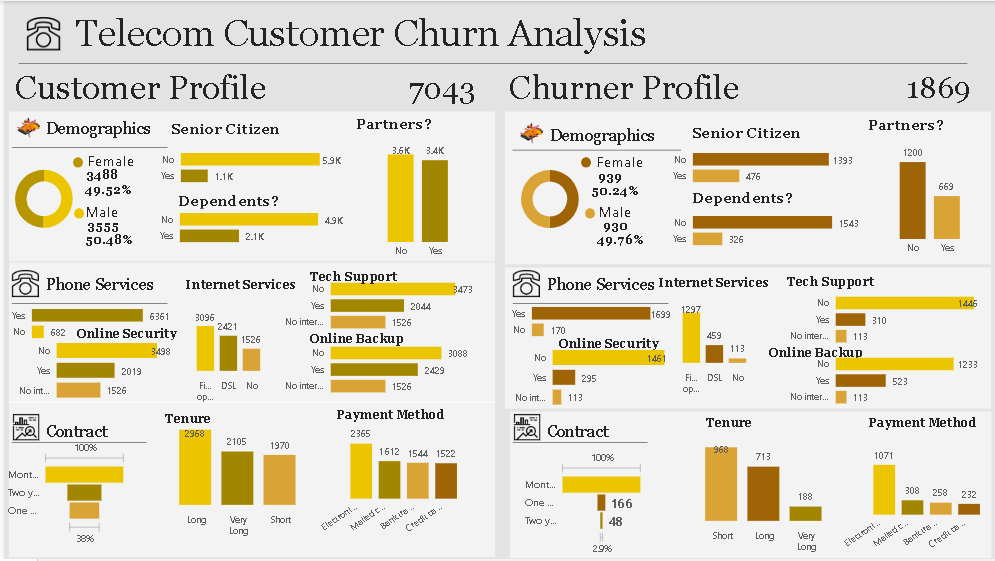

What the dashboard file says about the page in this screenshot:
{"tool":"powerbi","page":{"name":"Home Page","canvas":[1280,720],"ordinal":0},"visuals":[{"type":"textbox","box":[86.6,8.2,1193.4,67.4],"z":0},{"type":"textbox","box":[9.6,81.1,367.1,66],"z":1000},{"type":"textbox","box":[646.2,81.1,418,66],"z":2000},{"type":"basicShape","box":[9,61,1244.3,40.1],"z":3000},{"type":"image","box":[24.1,7.7,53.1,68.5],"z":4000},{"type":"basicShape","box":[646.2,527.5,633.8,192.5],"z":5000},{"type":"basicShape","box":[0,140.6,640,197.4],"z":6000},{"type":"basicShape","box":[0,335,640,185],"z":7000},{"type":"basicShape","box":[0,515,640,205],"z":8000},{"type":"basicShape","box":[640,140.6,640,201.3],"z":9000},{"type":"basicShape","box":[640,341.9,640,185.8],"z":10000},{"type":"group","id":"g1","title":"Group 1","box":[0,132.9,220.6,76.1],"z":11000},{"type":"group","id":"g2","title":"Group 1","box":[646.5,144.5,237.4,64.5],"z":12000},{"type":"basicShape","box":[0,169,220.6,40],"z":13000,"group":"g1"},{"type":"basicShape","box":[646.5,175.1,237.4,33.9],"z":13000,"group":"g2"},{"type":"group","id":"g3","title":"Group 2","box":[0,338.1,220.6,72.3],"z":13000},{"type":"basicShape","box":[0,370.4,220.6,40],"z":13000,"group":"g3"},{"type":"basicShape","box":[646.5,370.4,220.6,40],"z":13000,"group":"g4"},{"type":"basicShape","box":[0,549.6,193.5,40],"z":13000,"group":"g5"},{"type":"basicShape","box":[646.5,549.6,193.5,40],"z":13000,"group":"g6"},{"type":"textbox","box":[49,147.1,157.4,43.9],"z":14000,"group":"g1"},{"type":"textbox","box":[699.3,156.5,169.4,37.2],"z":14000,"group":"g2"},{"type":"group","id":"g4","title":"Group 2","box":[646.5,338.1,220.6,72.3],"z":14000},{"type":"textbox","box":[49,348.4,157.4,43.9],"z":14000,"group":"g3"},{"type":"textbox","box":[695.5,348.4,157.4,43.9],"z":14000,"group":"g4"},{"type":"textbox","box":[49,538,157.4,46.5],"z":14000,"group":"g5"},{"type":"textbox","box":[695.5,538,157.4,46.5],"z":14000,"group":"g6"},{"type":"image","box":[5.2,338.1,45.2,52.9],"z":15000,"group":"g3"},{"type":"image","box":[651.7,338.1,45.2,52.9],"z":15000,"group":"g4"},{"type":"group","id":"g5","title":"Group 3","box":[0,514.8,206.5,74.8],"z":15000},{"type":"image","box":[6.5,514.8,43.9,69.7],"z":15000,"group":"g5"},{"type":"image","box":[653,514.8,43.9,69.7],"z":15000,"group":"g6"},{"type":"group","id":"g6","title":"Group 3","box":[646.5,514.8,206.5,74.8],"z":16000},{"type":"card","fields":{"Values":["All Measures.Total No of Customers"]},"box":[498.9,80.8,131.8,59.5],"z":17000},{"type":"card","fields":{"Values":["All Measures.Total Churned Customers"]},"box":[1148,79.4,116.2,59.5],"z":18000},{"type":"donutChart","fields":{"Category":["01 Churn-Dataset.gender"],"Y":["CountNonNull(01 Churn-Dataset.gender)"]},"box":[0,174.3,103.5,161.6],"z":19000},{"type":"card","fields":{"Values":["All Measures.Female Customers"]},"box":[89.3,208.3,75.1,36.9],"z":20000},{"type":"image","box":[0,132.9,67.1,58.1],"z":21000,"group":"g1"},{"type":"image","box":[646.5,144.5,72.2,49.2],"z":21000,"group":"g2"},{"type":"textbox","box":[103.5,188.5,93.5,38.3],"z":21000},{"type":"textbox","box":[100.6,253.7,93.5,38.3],"z":22000},{"type":"card","fields":{"Values":["All Measures.Male Customers"]},"box":[90.7,273.5,75.1,36.9],"z":23000},{"type":"shape","box":[90.7,266.5,12.8,14.2],"z":24000},{"type":"shape","box":[89.3,201.3,12.8,14.2],"z":25000},{"type":"card","fields":{"Values":["All Measures.% Female Cus"]},"box":[96.4,226.8,75.1,36.9],"z":26000},{"type":"card","fields":{"Values":["All Measures.% Male Cus"]},"box":[97.8,292,75.1,36.9],"z":27000},{"type":"clusteredBarChart","fields":{"Category":["01 Churn-Dataset.SeniorCitizen"],"Y":["CountNonNull(01 Churn-Dataset.SeniorCitizen)"]},"box":[192.8,164.4,249.4,95],"z":28000},{"type":"clusteredBarChart","fields":{"Category":["01 Churn-Dataset.Dependents"],"Y":["CountNonNull(01 Churn-Dataset.Dependents)"]},"box":[191.3,240.9,259.4,95],"z":29000},{"type":"textbox","box":[211.2,147.4,168.7,32.6],"z":30000},{"type":"textbox","box":[221.1,239.5,168.7,32.6],"z":31000},{"type":"columnChart","fields":{"Category":["01 Churn-Dataset.Partner"],"Y":["CountNonNull(01 Churn-Dataset.Partner)"]},"box":[450.7,172.9,168.7,167.2],"z":32000},{"type":"textbox","box":[450.7,140.3,168.7,32.6],"z":33000},{"type":"donutChart","fields":{"Category":["01 Churn-Dataset.gender"],"Y":["All Measures.Total Churned Customers"]},"box":[653.4,184.3,103.5,141.7],"z":34000},{"type":"shape","box":[744.1,201.3,12.8,14.2],"z":35000},{"type":"textbox","box":[759.7,189.9,93.5,38.3],"z":36000},{"type":"card","fields":{"Values":["All Measures.% Female Churned"]},"box":[751.2,228.2,75.1,36.9],"z":37000},{"type":"card","fields":{"Values":["All Measures.Females Churned"]},"box":[744.1,209.8,75.1,36.9],"z":38000},{"type":"shape","box":[749.8,266.5,12.8,14.2],"z":39000},{"type":"textbox","box":[762.5,253.7,93.5,38.3],"z":40000},{"type":"card","fields":{"Values":["All Measures.Males Churned"]},"box":[751.2,273.5,75.1,36.9],"z":41000},{"type":"card","fields":{"Values":["All Measures.% Male Churned"]},"box":[756.9,292,75.1,36.9],"z":42000},{"type":"textbox","box":[884.4,151.7,165.8,39.7],"z":43000},{"type":"clusteredBarChart","fields":{"Category":["01 Churn-Dataset.SeniorCitizen"],"Y":["All Measures.Total Churned Customers"]},"box":[853.2,164.4,249.4,95],"z":44000},{"type":"clusteredBarChart","fields":{"Category":["01 Churn-Dataset.Dependents"],"Y":["All Measures.Total Churned Customers"]},"box":[853.2,245.2,259.4,95],"z":45000},{"type":"textbox","box":[884.4,236.7,165.8,39.7],"z":46000},{"type":"columnChart","fields":{"Category":["01 Churn-Dataset.Partner"],"Y":["All Measures.Total Churned Customers"]},"box":[1111.2,168.7,168.7,167.2],"z":47000},{"type":"textbox","box":[1111.2,141.7,168.7,32.6],"z":48000},{"type":"barChart","fields":{"Category":["01 Churn-Dataset.PhoneService"],"Y":["CountNonNull(01 Churn-Dataset.PhoneService)"]},"box":[0,365,221.2,95],"z":49000},{"type":"barChart","fields":{"Category":["01 Churn-Dataset.OnlineSecurity"],"Y":["CountNonNull(01 Churn-Dataset.OnlineSecurity)"]},"box":[0,417.5,221.2,110],"z":51000},{"type":"textbox","box":[88.8,413.8,155,27.5],"z":52000},{"type":"columnChart","fields":{"Category":["01 Churn-Dataset.InternetService"],"Y":["CountNonNull(01 Churn-Dataset.InternetService)"]},"box":[230,388.8,118.8,137.5],"z":53000},{"type":"textbox","box":[230,351.2,175,37.5],"z":54000},{"type":"barChart","fields":{"Category":["01 Churn-Dataset.TechSupport"],"Y":["CountNonNull(01 Churn-Dataset.TechSupport)"]},"box":[341.2,342.5,271.2,95],"z":54001},{"type":"textbox","box":[390,340,175,30],"z":54002},{"type":"barChart","fields":{"Category":["01 Churn-Dataset.OnlineBackup"],"Y":["CountNonNull(01 Churn-Dataset.OnlineBackup)"]},"box":[341.2,425,271.2,95],"z":54003},{"type":"textbox","box":[390,420,175,37.5],"z":54004},{"type":"barChart","fields":{"Category":["01 Churn-Dataset.PhoneService"],"Y":["All Measures.Total Churned Customers"]},"box":[645,362.5,221.2,95],"z":54005},{"type":"textbox","box":[711.2,427.5,155,27.5],"z":54006},{"type":"barChart","fields":{"Category":["01 Churn-Dataset.OnlineSecurity"],"Y":["All Measures.Total Churned Customers"]},"box":[640,427.5,221.2,110],"z":54007},{"type":"textbox","box":[840,348.8,175,37.5],"z":54008},{"type":"columnChart","fields":{"Category":["01 Churn-Dataset.InternetService"],"Y":["All Measures.Total Churned Customers"]},"box":[856.2,377.5,118.8,137.5],"z":54009},{"type":"textbox","box":[1005,347.5,175,30],"z":54010},{"type":"barChart","fields":{"Category":["01 Churn-Dataset.TechSupport"],"Y":["All Measures.Total Churned Customers"]},"box":[992.5,360,271.2,95],"z":54011},{"type":"textbox","box":[982.5,438.8,175,37.5],"z":54012},{"type":"barChart","fields":{"Category":["01 Churn-Dataset.OnlineBackup"],"Y":["All Measures.Total Churned Customers"]},"box":[992.5,438.8,271.2,95],"z":54013},{"type":"funnel","fields":{"Category":["01 Churn-Dataset.Contract"],"Y":["CountNonNull(01 Churn-Dataset.Contract)"]},"box":[0,561.2,163.8,146.2],"z":54014},{"type":"columnChart","fields":{"Category":["01 Churn-Dataset.Tenure Category"],"Y":["CountNonNull(01 Churn-Dataset.Tenure Category)"]},"box":[192.5,537.5,212.5,161.2],"z":54015},{"type":"textbox","box":[202.5,523.8,115,37.5],"z":54016},{"type":"columnChart","fields":{"Category":["01 Churn-Dataset.PaymentMethod"],"Y":["CountNonNull(01 Churn-Dataset.PaymentMethod)"]},"box":[392.5,537.5,212.5,161.2],"z":54017},{"type":"textbox","box":[425,518.8,167.5,37.5],"z":54018},{"type":"columnChart","fields":{"Category":["01 Churn-Dataset.PaymentMethod"],"Y":["All Measures.Total Churned Customers"]},"box":[1067.5,558.8,212.5,161.2],"z":54019},{"type":"textbox","box":[1111.2,528.8,167.5,37.5],"z":54020},{"type":"columnChart","fields":{"Category":["01 Churn-Dataset.Tenure Category"],"Y":["All Measures.Total Churned Customers"]},"box":[871.2,558.8,212.5,161.2],"z":54021},{"type":"textbox","box":[900,528.8,115,37.5],"z":54022},{"type":"funnel","fields":{"Category":["01 Churn-Dataset.Contract"],"Y":["All Measures.Total Churned Customers"]},"box":[667.5,573.8,163.8,146.2],"z":54023}]}

Visuals, with their boxes in screenshot pixels (x1, y1, x2, y2), scaled from the page's 1280x720 canvas onto the 995x561 screenshot:
textbox: [left=67, top=6, right=994, bottom=59]
textbox: [left=7, top=63, right=293, bottom=115]
textbox: [left=502, top=63, right=827, bottom=115]
basicShape: [left=7, top=48, right=974, bottom=79]
image: [left=19, top=6, right=60, bottom=59]
basicShape: [left=502, top=411, right=994, bottom=560]
basicShape: [left=0, top=110, right=498, bottom=263]
basicShape: [left=0, top=261, right=498, bottom=405]
basicShape: [left=0, top=401, right=498, bottom=560]
basicShape: [left=498, top=110, right=994, bottom=266]
basicShape: [left=498, top=266, right=994, bottom=411]
"Group 1" group: [left=0, top=104, right=171, bottom=163]
"Group 1" group: [left=503, top=113, right=687, bottom=163]
basicShape: [left=0, top=132, right=171, bottom=163]
basicShape: [left=503, top=136, right=687, bottom=163]
"Group 2" group: [left=0, top=263, right=171, bottom=320]
basicShape: [left=0, top=289, right=171, bottom=320]
basicShape: [left=503, top=289, right=674, bottom=320]
basicShape: [left=0, top=428, right=150, bottom=459]
basicShape: [left=503, top=428, right=653, bottom=459]
textbox: [left=38, top=115, right=160, bottom=149]
textbox: [left=544, top=122, right=675, bottom=151]
"Group 2" group: [left=503, top=263, right=674, bottom=320]
textbox: [left=38, top=271, right=160, bottom=306]
textbox: [left=541, top=271, right=663, bottom=306]
textbox: [left=38, top=419, right=160, bottom=455]
textbox: [left=541, top=419, right=663, bottom=455]
image: [left=4, top=263, right=39, bottom=305]
image: [left=507, top=263, right=542, bottom=305]
"Group 3" group: [left=0, top=401, right=161, bottom=459]
image: [left=5, top=401, right=39, bottom=455]
image: [left=508, top=401, right=542, bottom=455]
"Group 3" group: [left=503, top=401, right=663, bottom=459]
card - All Measures.Total No of Customers: [left=388, top=63, right=490, bottom=109]
card - All Measures.Total Churned Customers: [left=892, top=62, right=983, bottom=108]
donutChart - 01 Churn-Dataset.gender x CountNonNull(01 Churn-Dataset.gender): [left=0, top=136, right=80, bottom=262]
card - All Measures.Female Customers: [left=69, top=162, right=128, bottom=191]
image: [left=0, top=104, right=52, bottom=149]
image: [left=503, top=113, right=559, bottom=151]
textbox: [left=80, top=147, right=153, bottom=177]
textbox: [left=78, top=198, right=151, bottom=228]
card - All Measures.Male Customers: [left=71, top=213, right=129, bottom=242]
shape: [left=71, top=208, right=80, bottom=219]
shape: [left=69, top=157, right=79, bottom=168]
card - All Measures.% Female Cus: [left=75, top=177, right=133, bottom=205]
card - All Measures.% Male Cus: [left=76, top=228, right=134, bottom=256]
clusteredBarChart - 01 Churn-Dataset.SeniorCitizen x CountNonNull(01 Churn-Dataset.SeniorCitizen): [left=150, top=128, right=344, bottom=202]
clusteredBarChart - 01 Churn-Dataset.Dependents x CountNonNull(01 Churn-Dataset.Dependents): [left=149, top=188, right=350, bottom=262]
textbox: [left=164, top=115, right=295, bottom=140]
textbox: [left=172, top=187, right=303, bottom=212]
columnChart - 01 Churn-Dataset.Partner x CountNonNull(01 Churn-Dataset.Partner): [left=350, top=135, right=481, bottom=265]
textbox: [left=350, top=109, right=481, bottom=135]
donutChart - 01 Churn-Dataset.gender x All Measures.Total Churned Customers: [left=508, top=144, right=588, bottom=254]
shape: [left=578, top=157, right=588, bottom=168]
textbox: [left=591, top=148, right=663, bottom=178]
card - All Measures.% Female Churned: [left=584, top=178, right=642, bottom=207]
card - All Measures.Females Churned: [left=578, top=163, right=637, bottom=192]
shape: [left=583, top=208, right=593, bottom=219]
textbox: [left=593, top=198, right=665, bottom=228]
card - All Measures.Males Churned: [left=584, top=213, right=642, bottom=242]
card - All Measures.% Male Churned: [left=588, top=228, right=647, bottom=256]
textbox: [left=687, top=118, right=816, bottom=149]
clusteredBarChart - 01 Churn-Dataset.SeniorCitizen x All Measures.Total Churned Customers: [left=663, top=128, right=857, bottom=202]
clusteredBarChart - 01 Churn-Dataset.Dependents x All Measures.Total Churned Customers: [left=663, top=191, right=865, bottom=265]
textbox: [left=687, top=184, right=816, bottom=215]
columnChart - 01 Churn-Dataset.Partner x All Measures.Total Churned Customers: [left=864, top=131, right=994, bottom=262]
textbox: [left=864, top=110, right=994, bottom=136]
barChart - 01 Churn-Dataset.PhoneService x CountNonNull(01 Churn-Dataset.PhoneService): [left=0, top=284, right=172, bottom=358]
barChart - 01 Churn-Dataset.OnlineSecurity x CountNonNull(01 Churn-Dataset.OnlineSecurity): [left=0, top=325, right=172, bottom=411]
textbox: [left=69, top=322, right=190, bottom=344]
columnChart - 01 Churn-Dataset.InternetService x CountNonNull(01 Churn-Dataset.InternetService): [left=179, top=303, right=271, bottom=410]
textbox: [left=179, top=274, right=315, bottom=303]
barChart - 01 Churn-Dataset.TechSupport x CountNonNull(01 Churn-Dataset.TechSupport): [left=265, top=267, right=476, bottom=341]
textbox: [left=303, top=265, right=439, bottom=288]
barChart - 01 Churn-Dataset.OnlineBackup x CountNonNull(01 Churn-Dataset.OnlineBackup): [left=265, top=331, right=476, bottom=405]
textbox: [left=303, top=327, right=439, bottom=356]
barChart - 01 Churn-Dataset.PhoneService x All Measures.Total Churned Customers: [left=501, top=282, right=673, bottom=356]
textbox: [left=553, top=333, right=673, bottom=355]
barChart - 01 Churn-Dataset.OnlineSecurity x All Measures.Total Churned Customers: [left=498, top=333, right=669, bottom=419]
textbox: [left=653, top=272, right=789, bottom=301]
columnChart - 01 Churn-Dataset.InternetService x All Measures.Total Churned Customers: [left=666, top=294, right=758, bottom=401]
textbox: [left=781, top=271, right=917, bottom=294]
barChart - 01 Churn-Dataset.TechSupport x All Measures.Total Churned Customers: [left=772, top=280, right=982, bottom=355]
textbox: [left=764, top=342, right=900, bottom=371]
barChart - 01 Churn-Dataset.OnlineBackup x All Measures.Total Churned Customers: [left=772, top=342, right=982, bottom=416]
funnel - 01 Churn-Dataset.Contract x CountNonNull(01 Churn-Dataset.Contract): [left=0, top=437, right=127, bottom=551]
columnChart - 01 Churn-Dataset.Tenure Category x CountNonNull(01 Churn-Dataset.Tenure Category): [left=150, top=419, right=315, bottom=544]
textbox: [left=157, top=408, right=247, bottom=437]
columnChart - 01 Churn-Dataset.PaymentMethod x CountNonNull(01 Churn-Dataset.PaymentMethod): [left=305, top=419, right=470, bottom=544]
textbox: [left=330, top=404, right=461, bottom=433]
columnChart - 01 Churn-Dataset.PaymentMethod x All Measures.Total Churned Customers: [left=830, top=435, right=994, bottom=560]
textbox: [left=864, top=412, right=994, bottom=441]
columnChart - 01 Churn-Dataset.Tenure Category x All Measures.Total Churned Customers: [left=677, top=435, right=842, bottom=560]
textbox: [left=700, top=412, right=789, bottom=441]
funnel - 01 Churn-Dataset.Contract x All Measures.Total Churned Customers: [left=519, top=447, right=646, bottom=560]
